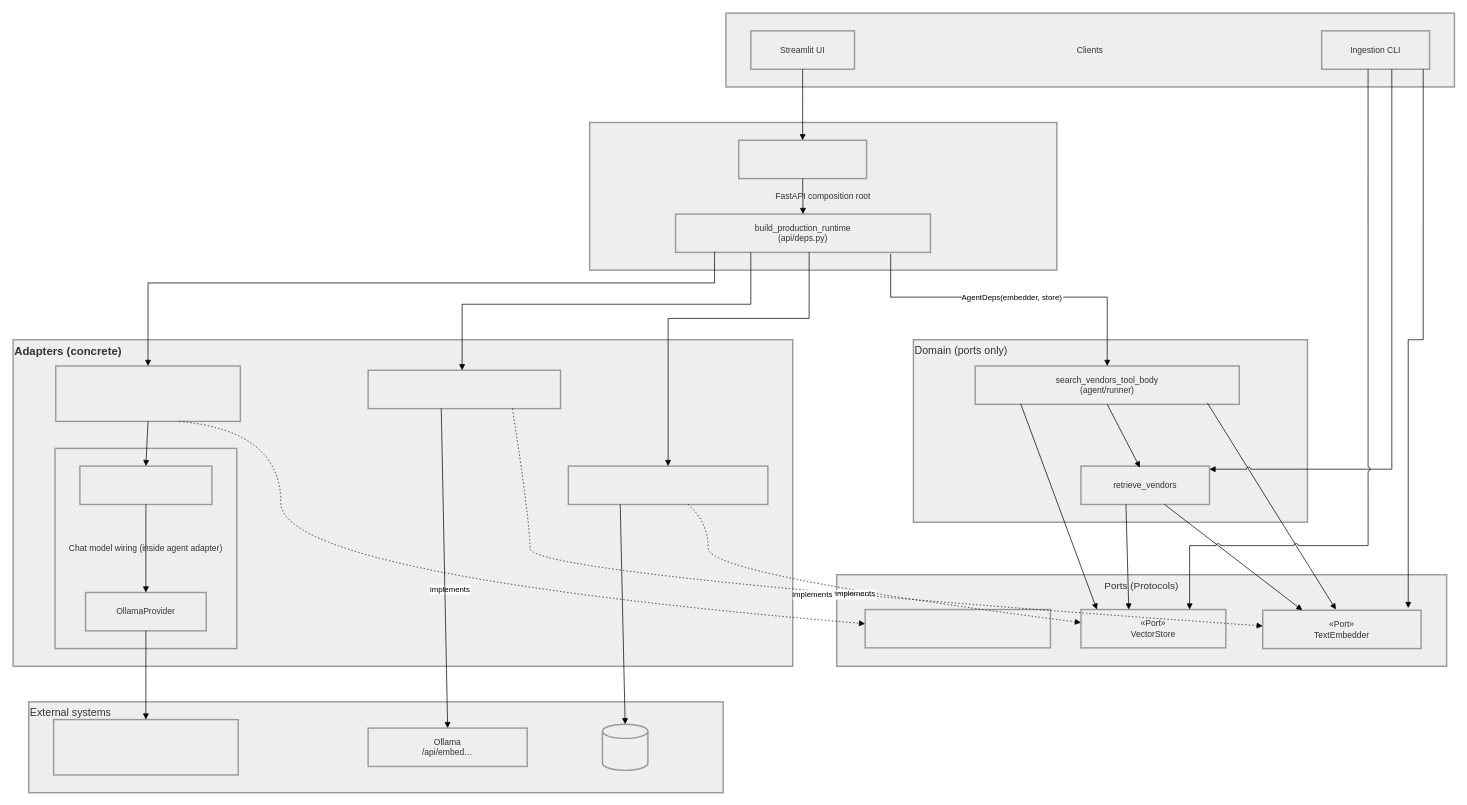
This 1467x805 diagram has some shape labels left out. The centre of each missing label's shape, as x and y in pixels:
Ollama OpenAI-compatible chat: (x=146, y=747)
OpenAIChatModel: (x=145, y=485)
Qdrant: (x=624, y=747)
routes / runtime: (x=802, y=159)
«Adapter» OllamaEmbedder: (x=464, y=389)
«Adapter» PydanticAiVendorAgent (wraps pydantic_ai.Agent): (x=148, y=393)
«Adapter» QdrantVectorStore: (x=667, y=485)
«Port» VendorAgentRunner: (x=957, y=628)
